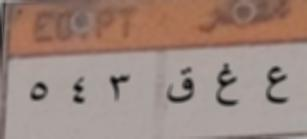3: (105, 70, 135, 105)
4: (68, 73, 92, 110)
5: (27, 79, 53, 111)
ain: (256, 61, 291, 109)
ghayn: (213, 61, 242, 114)
qaaf: (164, 64, 198, 108)
